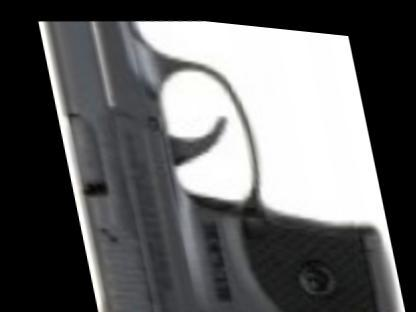pistol: (36, 2, 399, 311)
